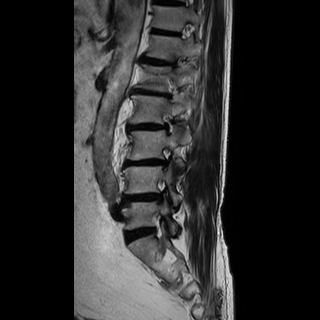LFS1: (156, 108, 178, 139)
RFS2: (152, 177, 177, 212), (155, 143, 178, 175)
